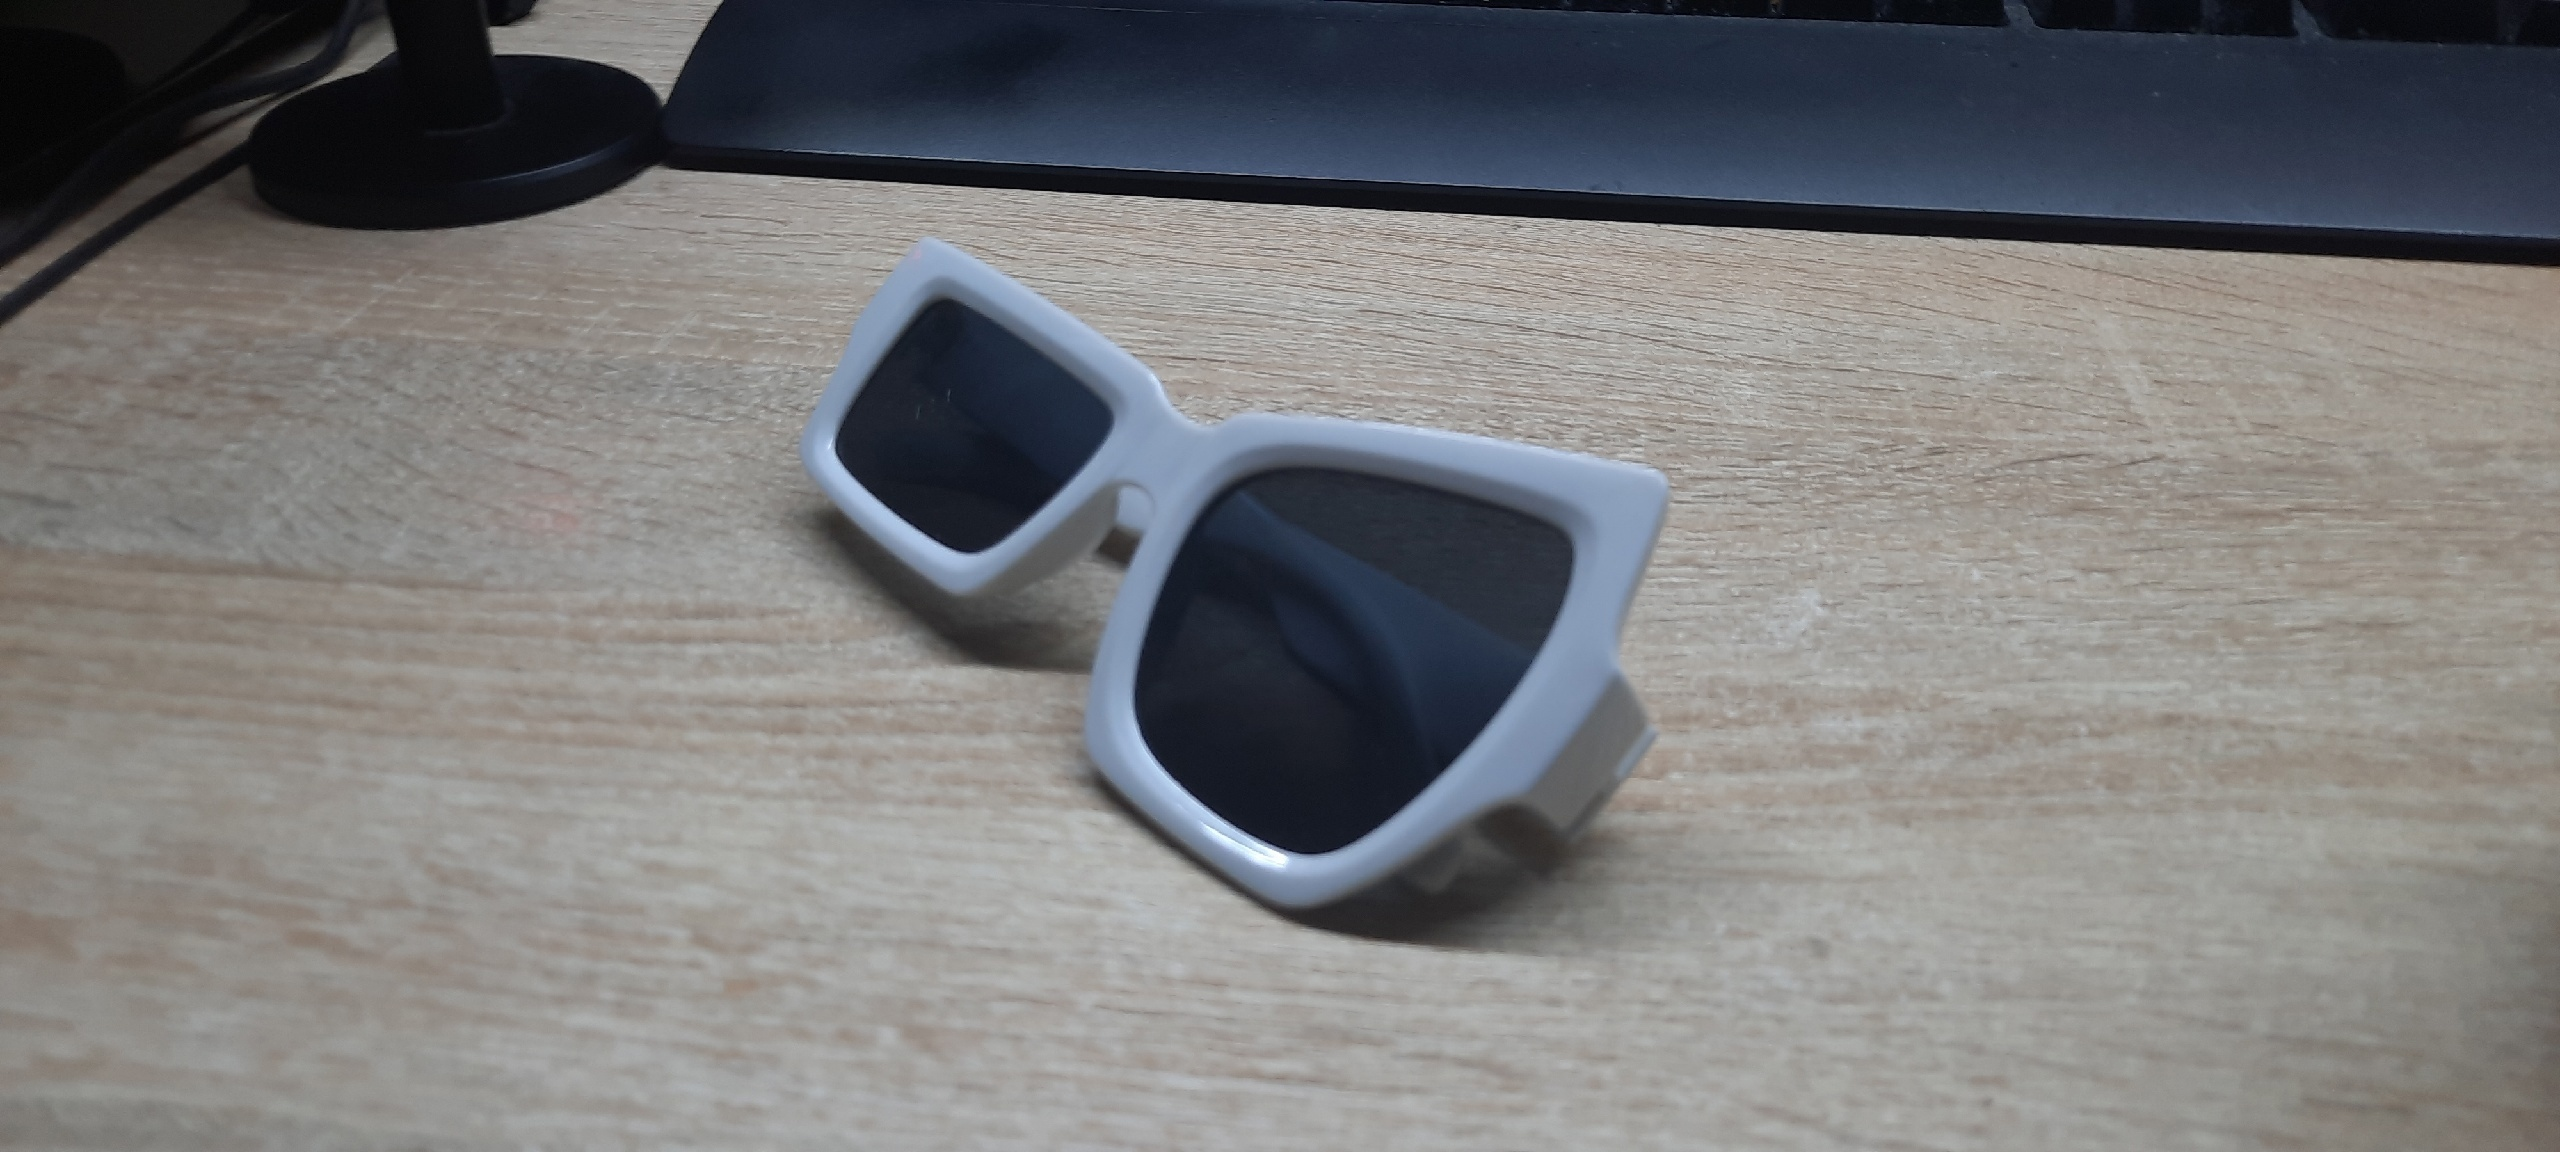glasses: (803, 241, 1665, 909)
